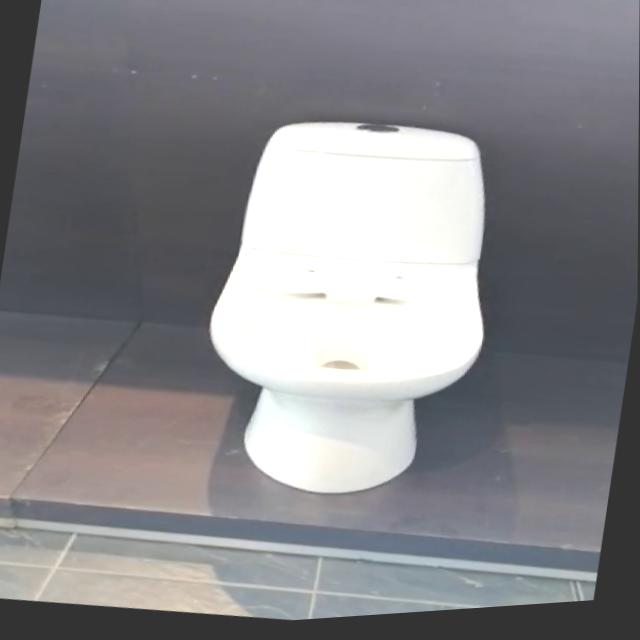toilet: (186, 101, 515, 524)
